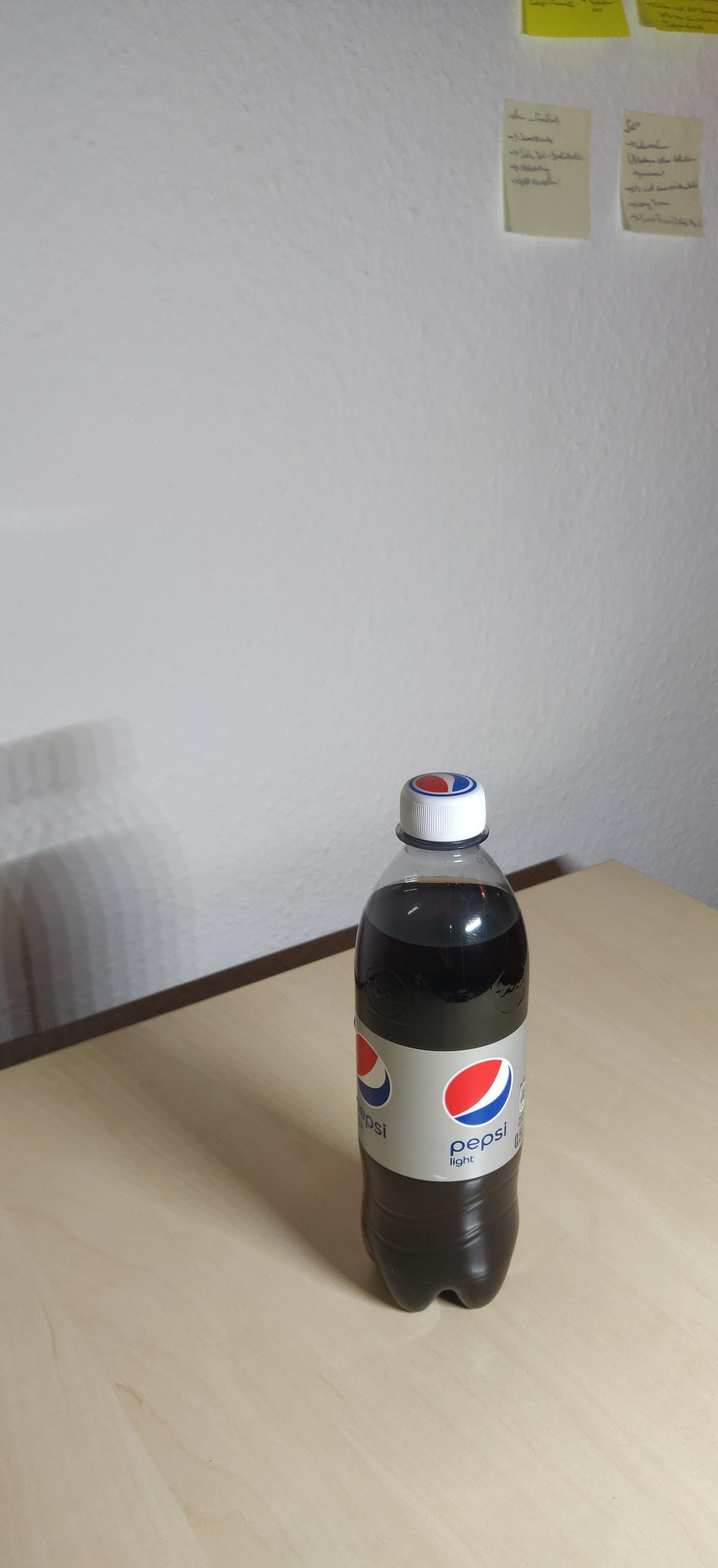bottle-plastic: (352, 772, 531, 1314)
